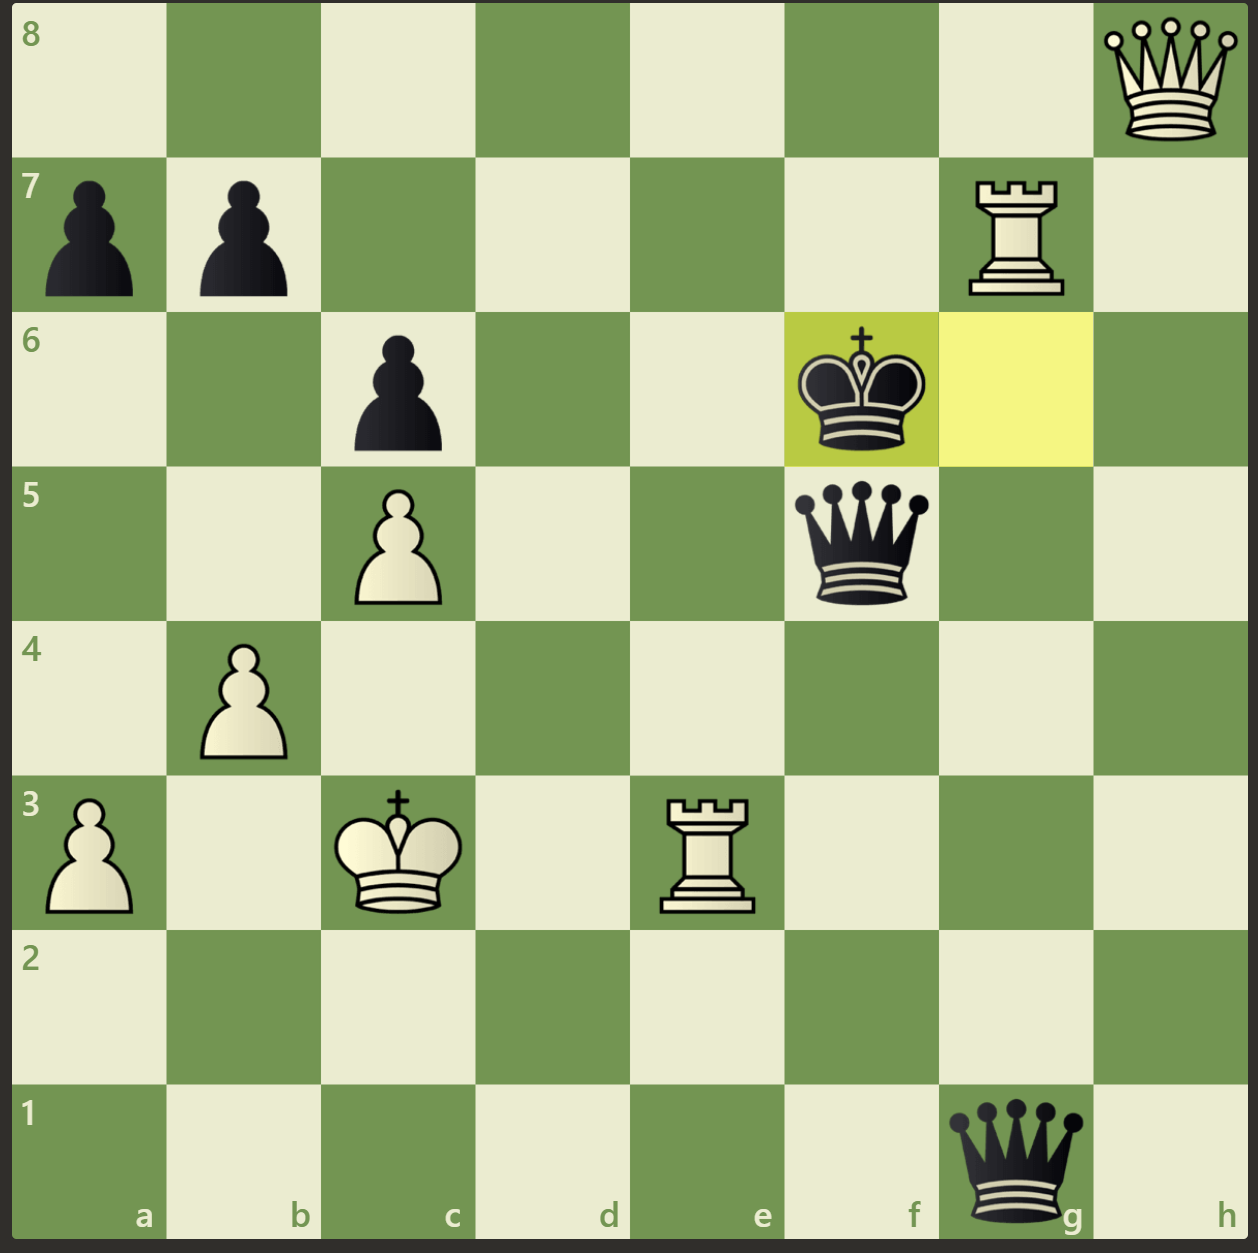beyaz_kale: (634, 783, 776, 925), (948, 163, 1081, 302)
beyaz_piyon: (28, 783, 158, 921), (183, 626, 306, 768), (332, 476, 460, 607)
beyaz_sah: (329, 781, 471, 923)
beyaz_vezir: (1097, 5, 1243, 147)
siyah_piyon: (329, 319, 467, 461), (173, 165, 316, 299), (28, 169, 155, 303)
siyah_sah: (783, 314, 932, 460)
siyah_vezir: (787, 470, 935, 612), (945, 1091, 1090, 1233)
